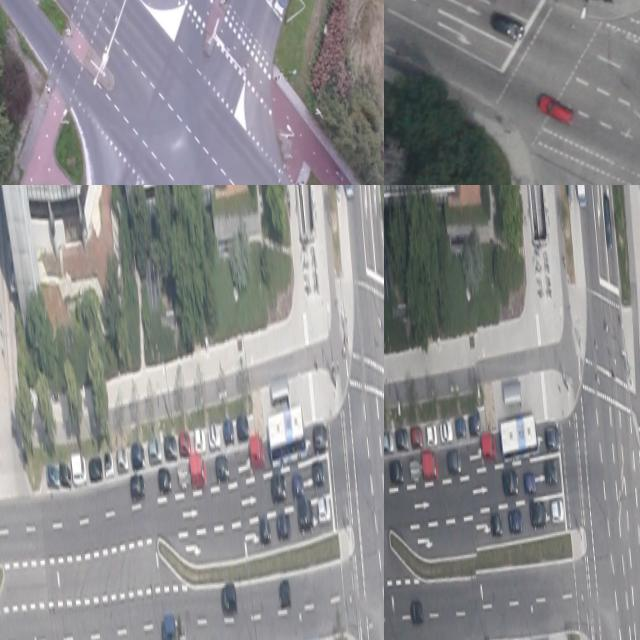UAI: (535, 89, 577, 129), (491, 8, 527, 45), (297, 497, 314, 535), (189, 454, 207, 489), (249, 433, 266, 470), (220, 582, 238, 616), (602, 195, 613, 250), (71, 450, 88, 485), (316, 493, 332, 527), (130, 439, 146, 472), (312, 421, 329, 452), (275, 510, 292, 541), (129, 471, 146, 502), (422, 450, 439, 481), (270, 473, 287, 503), (546, 422, 562, 453), (530, 499, 546, 529), (502, 469, 519, 497), (311, 459, 326, 490), (147, 435, 162, 466), (160, 613, 177, 640), (215, 453, 230, 483), (481, 432, 497, 460), (270, 0, 296, 17), (157, 466, 172, 495), (543, 458, 558, 486), (194, 424, 207, 455), (508, 508, 524, 533), (164, 433, 178, 461), (207, 422, 221, 450), (236, 413, 250, 441), (389, 458, 404, 484), (178, 429, 191, 458), (278, 579, 291, 608), (88, 456, 103, 481), (550, 498, 565, 523), (447, 448, 462, 473), (292, 472, 305, 500), (259, 516, 272, 544), (46, 462, 60, 488), (410, 600, 424, 625), (439, 419, 453, 444), (59, 460, 71, 489), (222, 417, 234, 446), (116, 448, 129, 474), (425, 421, 438, 446), (395, 427, 409, 450), (178, 463, 190, 489), (409, 456, 421, 482), (523, 470, 536, 493), (490, 513, 503, 536), (410, 425, 423, 448), (468, 412, 481, 435), (104, 450, 114, 478), (176, 616, 187, 640), (455, 415, 466, 438), (384, 430, 394, 454)
car: (265, 402, 307, 467), (499, 411, 539, 460)
